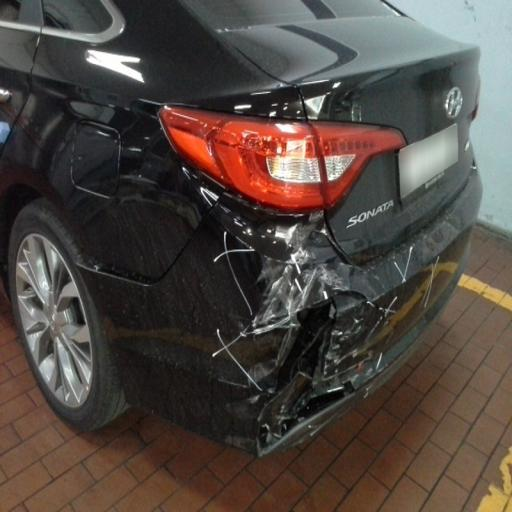scratch: (177, 126, 431, 424)
